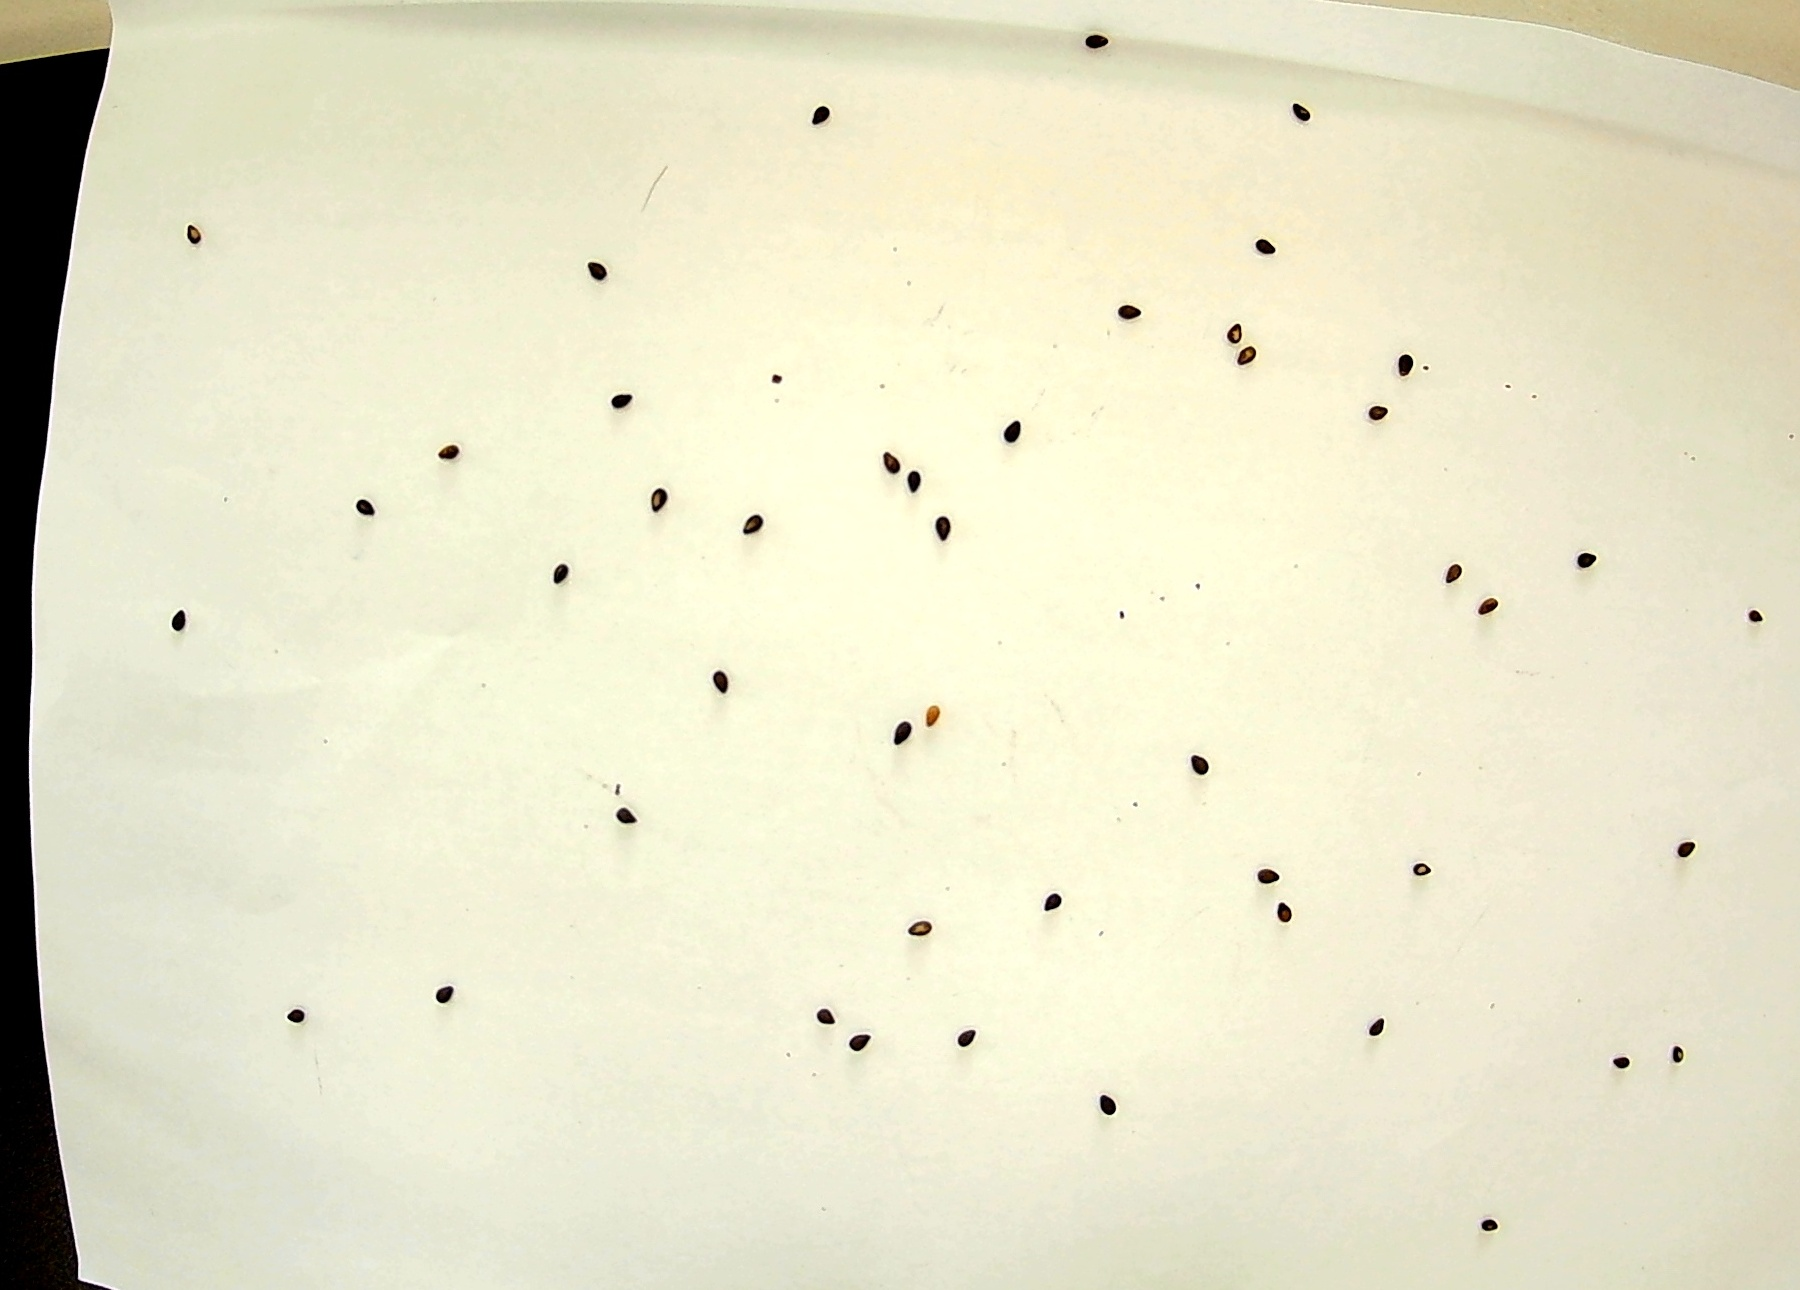sesami: (350, 498, 391, 533), (272, 1000, 313, 1035), (907, 907, 947, 942), (1182, 746, 1222, 780), (1464, 1208, 1504, 1243), (1353, 396, 1394, 431), (1066, 20, 1107, 54), (1274, 91, 1314, 126), (876, 445, 915, 480), (887, 461, 927, 496), (841, 1014, 880, 1048), (1573, 544, 1612, 579), (1100, 288, 1139, 322), (1003, 415, 1042, 450), (1247, 237, 1287, 272), (430, 431, 470, 465), (596, 787, 636, 821), (539, 551, 579, 585), (633, 483, 674, 517), (911, 706, 952, 740), (809, 1004, 850, 1037), (938, 1015, 978, 1048), (1034, 881, 1074, 914), (1261, 898, 1302, 931), (1393, 849, 1433, 882), (1347, 1008, 1387, 1041), (1587, 1041, 1627, 1075), (1647, 1033, 1687, 1067), (1673, 831, 1713, 864), (1746, 593, 1786, 627), (1384, 345, 1425, 378), (1227, 342, 1267, 376), (1218, 311, 1259, 345), (805, 96, 846, 130), (576, 251, 615, 285), (606, 384, 645, 417), (170, 212, 209, 246), (165, 599, 204, 632), (419, 979, 458, 1012), (747, 511, 786, 544), (908, 512, 947, 546), (698, 666, 737, 699), (878, 712, 917, 746), (1095, 1088, 1134, 1121), (1243, 852, 1282, 885), (1467, 589, 1506, 623), (1441, 561, 1480, 595)
